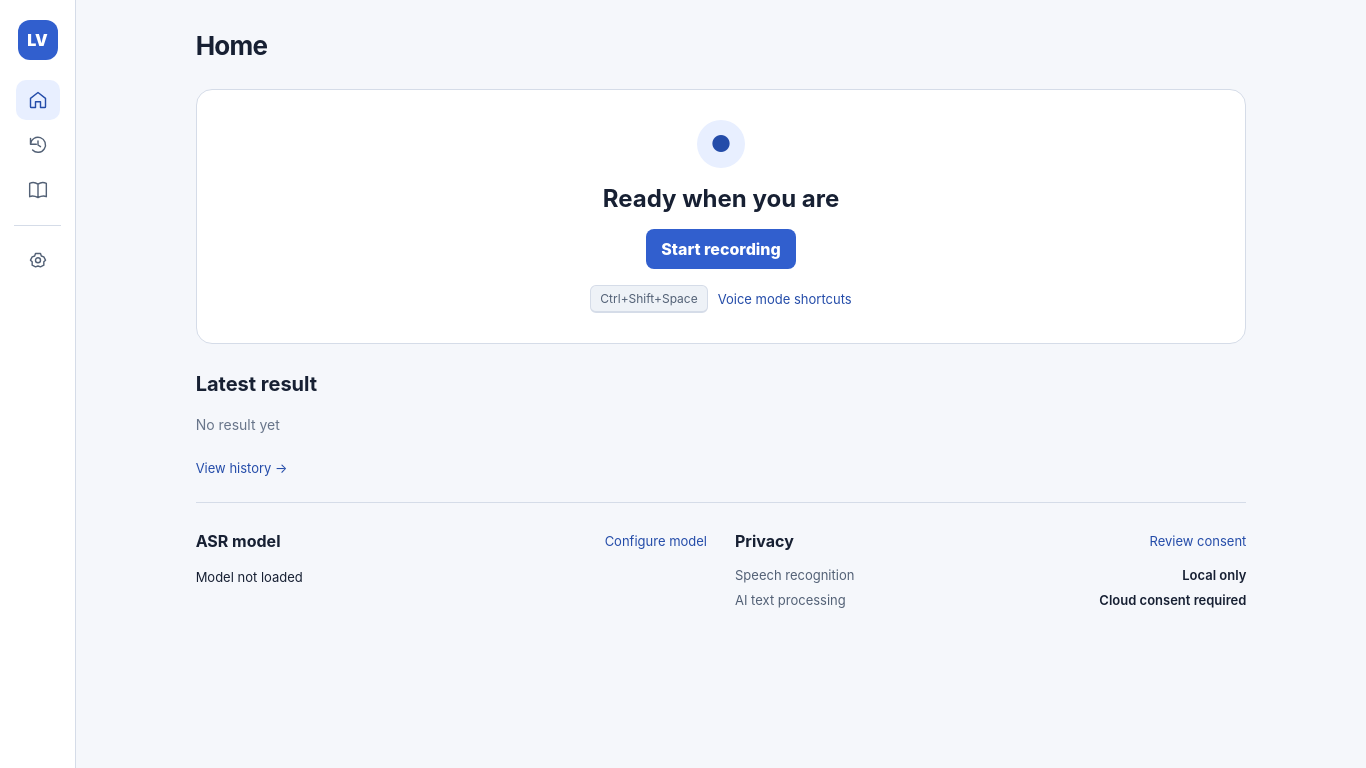
Test: browser startup renders the real Settings page without a false shortcut alert
The width and height of the screenshot is (1366, 768).
Click the button named "Settings": [38, 261] box [16, 241, 60, 281]
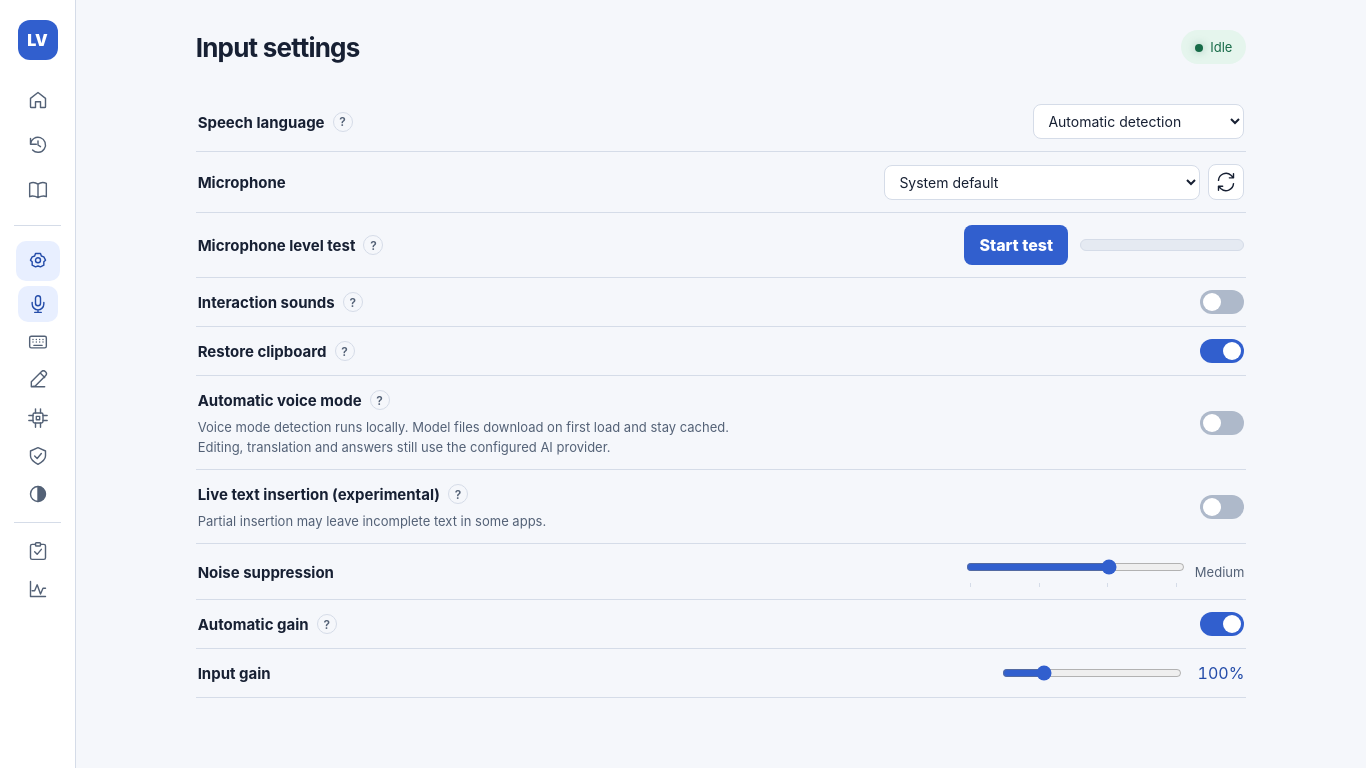
Click the button named "Writing and translation": [38, 380] box [18, 362, 58, 398]
(page scrolled)
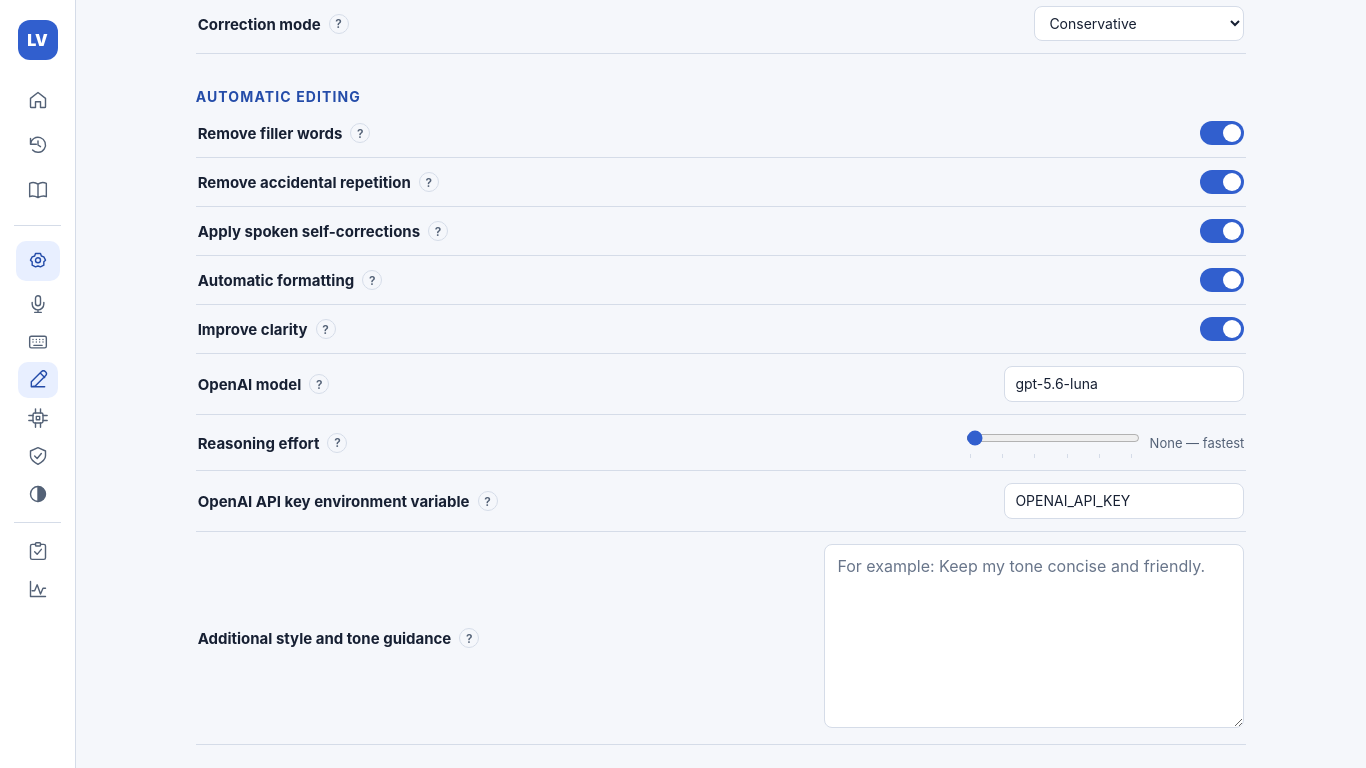
Now the field showing "gpt-5.6-luna" is shown, box [1004, 366, 1244, 402]
